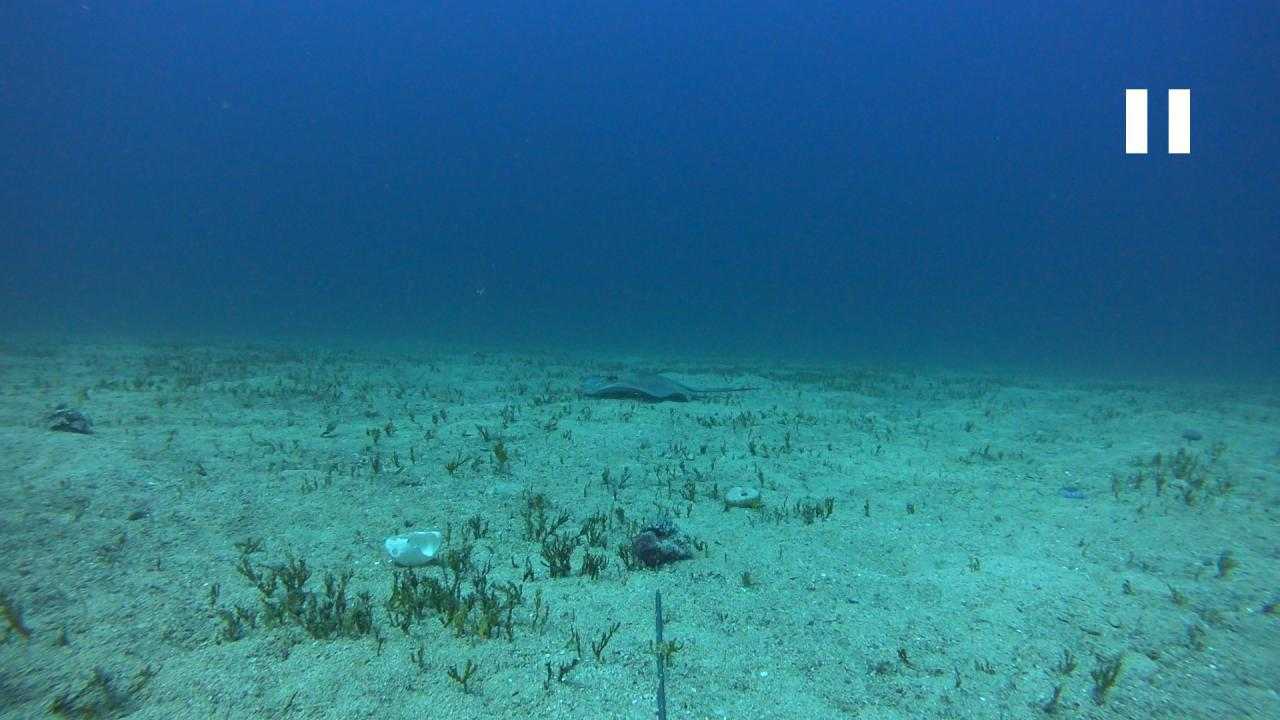dasyatis: (580, 368, 760, 402)
